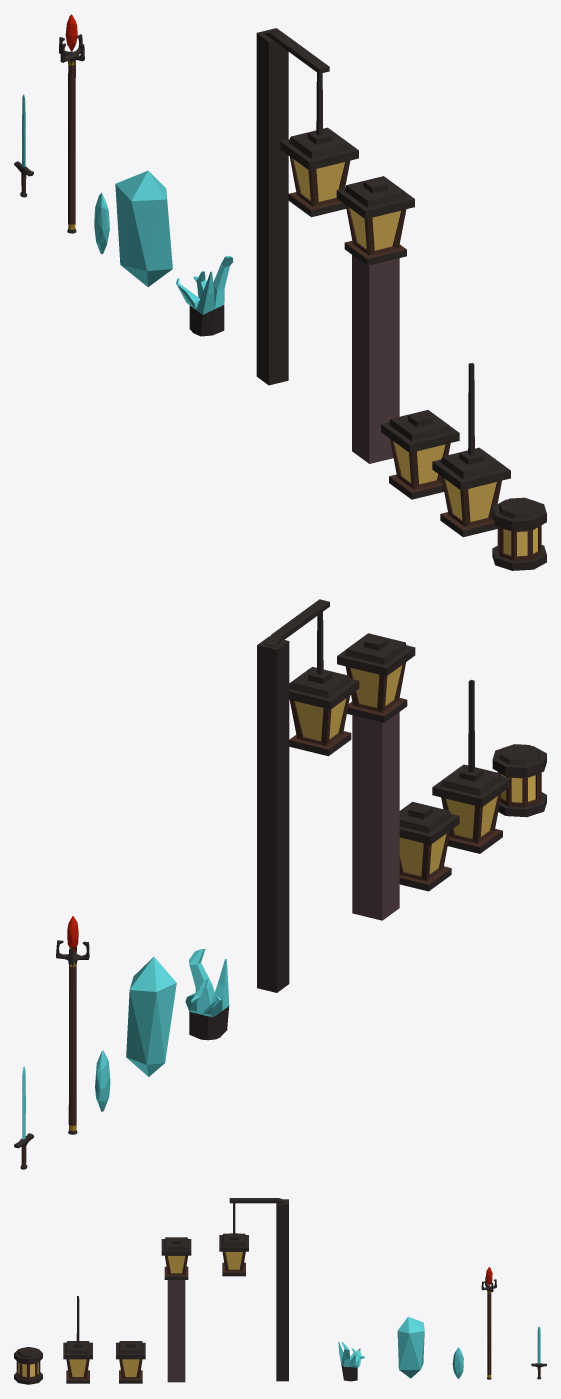
The model's file is LightsCollection.fbx.
3 renders of one model, top to bottom at view 1: azimuth 30°, elevation 25°; view 2: azimuth 150°, elevation 25°; view 3: azimuth 270°, elevation 25°, orthographic. The views are drawn at different scales.
Visible parts, largest first — view 1: Lantern_long, Light_pillar, Lantern_to_ceil, Light_mineral_v1, Lantern_v1, Lantern_v2, Light_mineral_v2, Wizard_wand, Light_mineral_v3; view 2: Lantern_long, Light_pillar, Lantern_to_ceil, Light_mineral_v1, Lantern_v1, Lantern_v2, Light_mineral_v2, Wizard_wand, Light_mineral_v3; view 3: Lantern_long, Light_pillar, Light_mineral_v1, Lantern_to_ceil, Lantern_v1, Lantern_v2, Wizard_wand, Light_mineral_v2, Light_mineral_v3, Diamond_sword.
Boxes of the visible parts, <box> form: Lantern_long: <box>256,28,358,385</box>; Light_pillar: <box>336,176,414,463</box>; Lantern_to_ceil: <box>432,363,510,537</box>; Light_mineral_v1: <box>115,170,172,286</box>; Lantern_v1: <box>381,410,459,499</box>; Lantern_v2: <box>492,497,546,570</box>; Light_mineral_v2: <box>176,255,233,336</box>; Wizard_wand: <box>59,14,84,233</box>; Light_mineral_v3: <box>94,192,109,254</box>; Lantern_long: <box>257,599,359,992</box>; Light_pillar: <box>337,633,415,920</box>; Lantern_to_ceil: <box>432,680,510,853</box>; Light_mineral_v1: <box>126,957,176,1076</box>; Lantern_v1: <box>399,801,459,891</box>; Lantern_v2: <box>492,744,546,817</box>; Light_mineral_v2: <box>185,948,229,1040</box>; Wizard_wand: <box>56,916,89,1134</box>; Light_mineral_v3: <box>95,1050,110,1111</box>; Lantern_long: <box>219,1198,288,1381</box>; Light_pillar: <box>161,1237,191,1382</box>; Light_mineral_v1: <box>397,1316,424,1378</box>; Lantern_to_ceil: <box>63,1296,92,1383</box>; Lantern_v1: <box>116,1341,145,1383</box>; Lantern_v2: <box>14,1347,42,1384</box>; Wizard_wand: <box>481,1267,496,1379</box>; Light_mineral_v2: <box>338,1341,364,1381</box>; Light_mineral_v3: <box>452,1347,463,1378</box>; Diamond_sword: <box>531,1326,546,1379</box>.
Bounding box in the file's own units: 122 × 2196 × 816.
